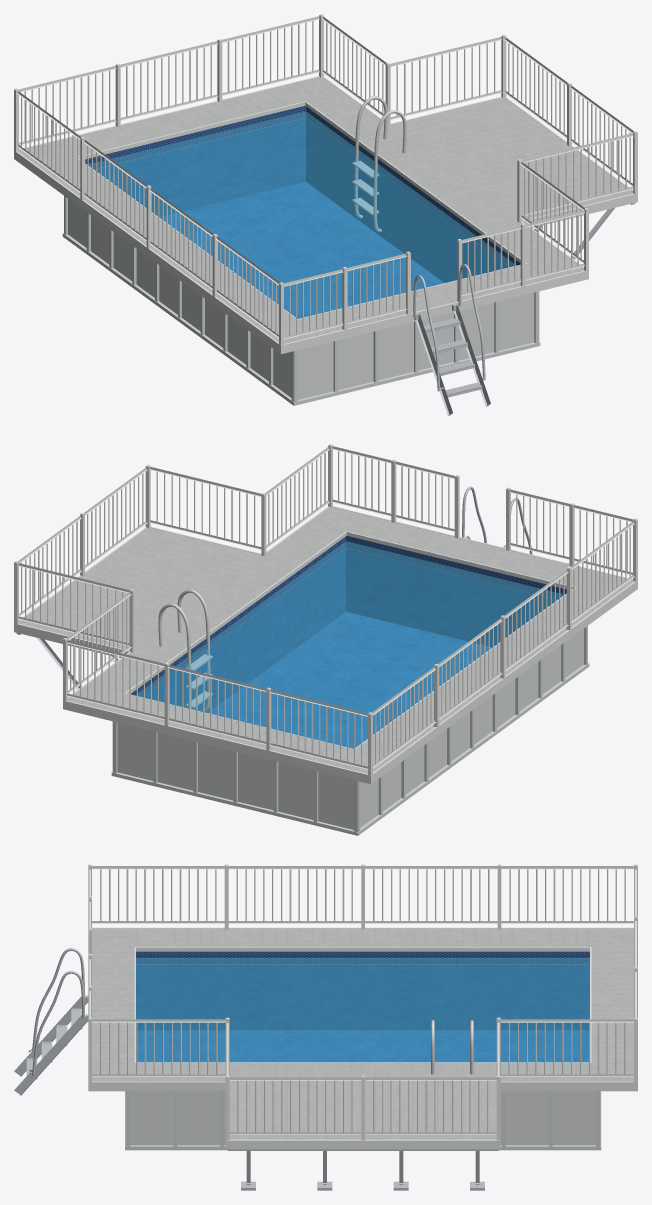
Rendered from kayak-pool-12x20-white-t-ag-fence.2605478416.glb.
The picture shows the model from 3 angles, top to bottom: view 1: azimuth 30°, elevation 25°; view 2: azimuth 150°, elevation 25°; view 3: azimuth 270°, elevation 25°; orthographic projection. The views are drawn at different scales.
Parts seen in each view (by area): view 1: water, deck, fence, liner_wall, liner_floor, wall, fascia, upright, ladder, steel; view 2: water, deck, fence, liner_wall, wall, liner_floor, fascia, upright, steel, ladder; view 3: water, deck, liner_wall, fence, liner_floor, fascia, wall, ladder, upright, stud.
Boxes of the visible parts, box(x1,y1,x2,y2) form: water: box(88, 111, 516, 318); deck: box(18, 77, 632, 343); fence: box(14, 14, 637, 345); liner_wall: box(85, 106, 520, 282); liner_floor: box(159, 182, 443, 318); wall: box(68, 199, 534, 399); fascia: box(14, 76, 637, 354); upright: box(62, 196, 540, 405); ladder: box(413, 264, 490, 415); steel: box(352, 96, 406, 232); water: box(135, 541, 563, 748); deck: box(19, 507, 633, 773); fence: box(14, 444, 637, 775); liner_wall: box(131, 536, 566, 712); wall: box(117, 629, 583, 829); liner_floor: box(208, 612, 492, 748); fascia: box(14, 506, 637, 784); upright: box(111, 626, 589, 835); steel: box(158, 589, 212, 711); ladder: box(462, 486, 532, 554); water: box(136, 957, 589, 1062); deck: box(92, 928, 633, 1139); liner_wall: box(136, 951, 589, 1030); fence: box(88, 864, 637, 1140); liner_floor: box(137, 1030, 588, 1062); fascia: box(88, 927, 637, 1149); wall: box(130, 1091, 595, 1145); ladder: box(14, 948, 88, 1095); upright: box(125, 1091, 601, 1150); stud: box(227, 1149, 498, 1190).
Bounding box in the file's own units: 6.71 × 2.15 × 8.3.
11 materials, 3 textured.
